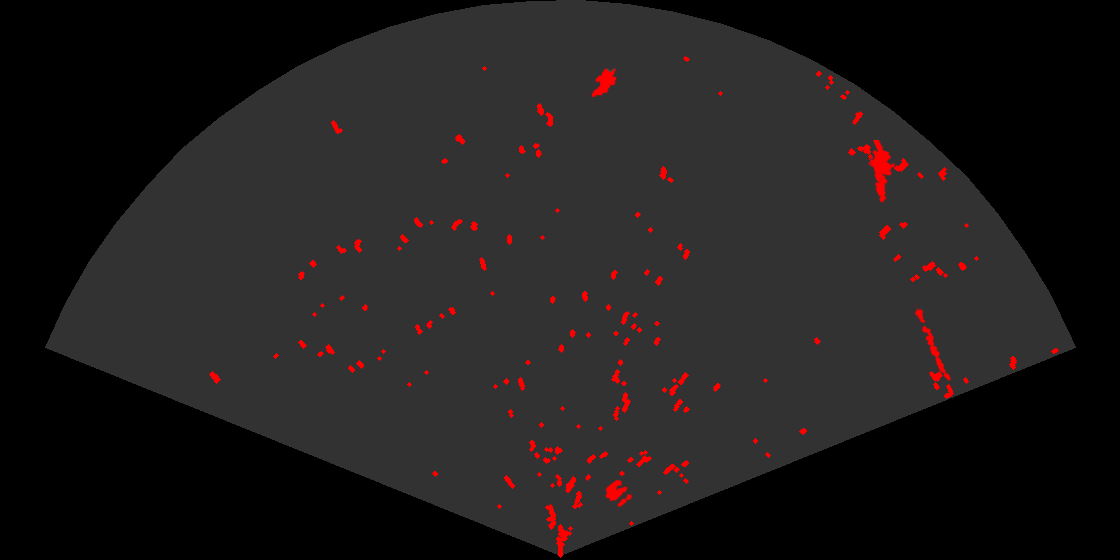AUV: (590, 67, 618, 99)
ball: (604, 478, 634, 509)
chain: (913, 304, 952, 383)
frogman: (868, 140, 897, 204)
